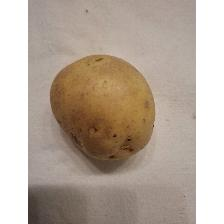Kartoffel: (48, 51, 160, 164)
